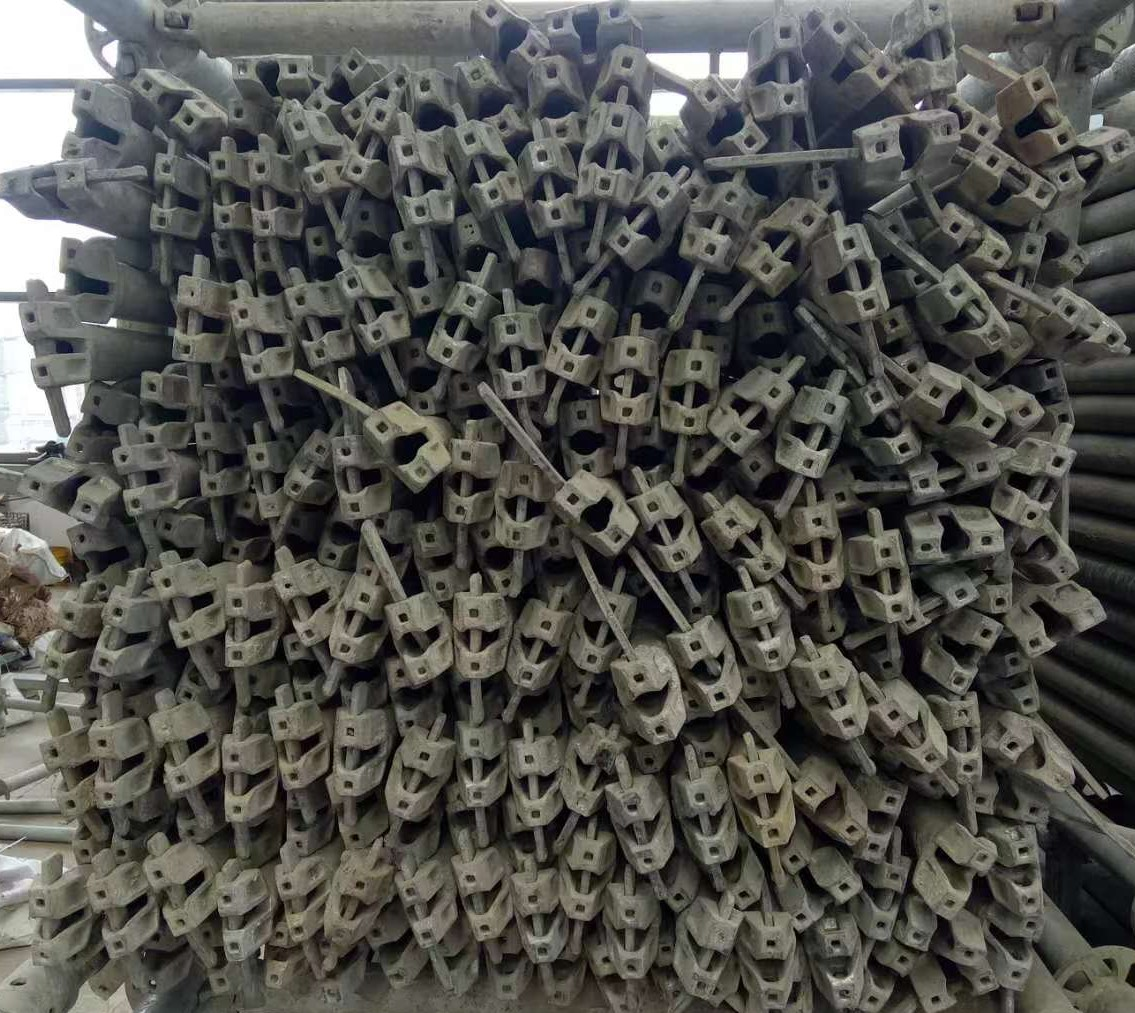NHsquare_steel: (1023, 521, 1080, 587), (510, 242, 554, 313)
THsquare_steel: (551, 477, 640, 559), (128, 64, 214, 144), (856, 108, 961, 173), (687, 75, 768, 159), (612, 647, 683, 741), (987, 720, 1077, 794), (918, 368, 1004, 445), (366, 406, 443, 491), (921, 826, 993, 915), (1017, 591, 1107, 659), (387, 221, 445, 322), (797, 764, 867, 846), (16, 467, 105, 529), (784, 860, 863, 927), (909, 508, 1000, 566), (742, 914, 797, 1009), (530, 53, 586, 145), (937, 616, 1000, 695), (804, 916, 858, 1007), (460, 53, 522, 132), (55, 81, 115, 160), (62, 380, 116, 463), (465, 1, 546, 54), (305, 47, 375, 108), (547, 2, 637, 49), (14, 300, 61, 389), (907, 918, 988, 969), (1002, 827, 1046, 919), (994, 916, 1045, 991), (559, 397, 605, 478), (410, 524, 458, 601), (859, 781, 902, 864), (973, 785, 1057, 827), (1031, 359, 1078, 434), (862, 944, 913, 1013), (744, 303, 795, 371), (57, 231, 97, 317), (453, 214, 499, 287), (448, 372, 497, 440), (137, 369, 181, 444), (626, 267, 679, 328), (406, 68, 452, 136), (876, 306, 922, 374), (71, 528, 116, 597), (590, 953, 641, 1013), (475, 523, 517, 595), (279, 635, 322, 705), (233, 53, 309, 92), (369, 920, 413, 986), (537, 523, 573, 602), (401, 340, 440, 412), (740, 670, 781, 737), (278, 792, 323, 853), (346, 200, 386, 267), (1001, 652, 1042, 717), (223, 496, 262, 564), (693, 284, 733, 350), (684, 438, 730, 495), (1043, 230, 1092, 281), (486, 933, 525, 997), (142, 929, 180, 993), (628, 421, 667, 481), (721, 855, 766, 906), (300, 225, 338, 284), (654, 940, 686, 1009), (72, 954, 118, 1000), (741, 454, 788, 499), (391, 685, 435, 732), (171, 795, 215, 842), (957, 101, 1000, 149), (209, 231, 247, 285), (689, 717, 730, 767), (263, 924, 293, 992), (250, 240, 285, 298), (870, 624, 906, 680), (319, 519, 358, 568), (546, 958, 585, 1007), (282, 511, 319, 561), (226, 96, 258, 150), (518, 694, 560, 735)
THsquare_steel_blocked: (740, 195, 825, 299), (921, 268, 1008, 356), (817, 8, 901, 94), (609, 174, 685, 269), (703, 497, 785, 584), (1001, 437, 1077, 530), (577, 101, 643, 208), (824, 222, 889, 323), (847, 523, 911, 624), (872, 688, 947, 773), (795, 646, 864, 738), (1042, 294, 1128, 366), (721, 371, 793, 457), (450, 122, 517, 214), (137, 149, 206, 238), (728, 585, 795, 676), (1009, 67, 1078, 155), (676, 616, 739, 712), (788, 383, 850, 479), (931, 202, 1013, 274), (384, 600, 450, 689), (634, 485, 699, 575), (387, 729, 449, 822), (972, 149, 1053, 220), (689, 177, 747, 276), (319, 865, 386, 950), (550, 292, 608, 389), (614, 780, 673, 874), (1, 158, 100, 214), (678, 768, 735, 865), (153, 560, 214, 650), (908, 1, 964, 99), (1052, 126, 1135, 192), (602, 333, 660, 426), (736, 754, 794, 847), (84, 871, 145, 959), (657, 344, 715, 436), (858, 375, 916, 467), (523, 141, 581, 233), (427, 283, 486, 373), (676, 908, 734, 999), (389, 136, 448, 225), (286, 107, 343, 199), (508, 603, 566, 693), (644, 119, 707, 200), (490, 312, 547, 401), (342, 98, 394, 195), (497, 459, 551, 552), (570, 587, 627, 674), (165, 274, 219, 364), (269, 564, 329, 645), (911, 450, 999, 505), (791, 503, 844, 594), (763, 15, 810, 116), (146, 854, 202, 938), (92, 597, 151, 676), (603, 887, 654, 978), (228, 298, 281, 385), (342, 269, 395, 356), (904, 574, 977, 637), (509, 737, 560, 826), (24, 877, 75, 966), (41, 727, 90, 819), (331, 575, 382, 663), (286, 286, 339, 370), (211, 877, 262, 964), (152, 707, 204, 792), (452, 592, 501, 682), (513, 874, 561, 964), (90, 724, 139, 811), (455, 854, 504, 941), (394, 871, 450, 947), (442, 439, 492, 524), (565, 723, 610, 816), (270, 703, 319, 787), (41, 599, 94, 676), (215, 587, 266, 665), (280, 431, 333, 506), (218, 735, 263, 823), (459, 721, 505, 805), (250, 150, 292, 240), (114, 446, 166, 518), (594, 45, 656, 105), (331, 435, 373, 523), (860, 863, 907, 941), (336, 710, 379, 794), (829, 469, 909, 514), (206, 149, 248, 233), (1005, 227, 1043, 319), (195, 422, 241, 498), (565, 833, 603, 923), (949, 695, 986, 785), (273, 863, 317, 938), (247, 439, 285, 517), (920, 969, 996, 1008), (361, 511, 405, 575), (195, 925, 228, 996), (331, 794, 375, 847), (152, 515, 202, 561), (982, 563, 1012, 609)
